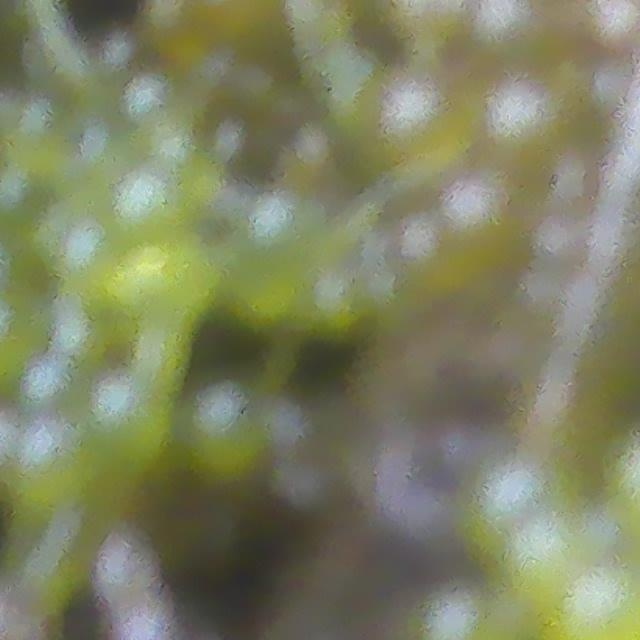SeaGrape: (543, 564, 640, 640), (113, 171, 176, 238)
